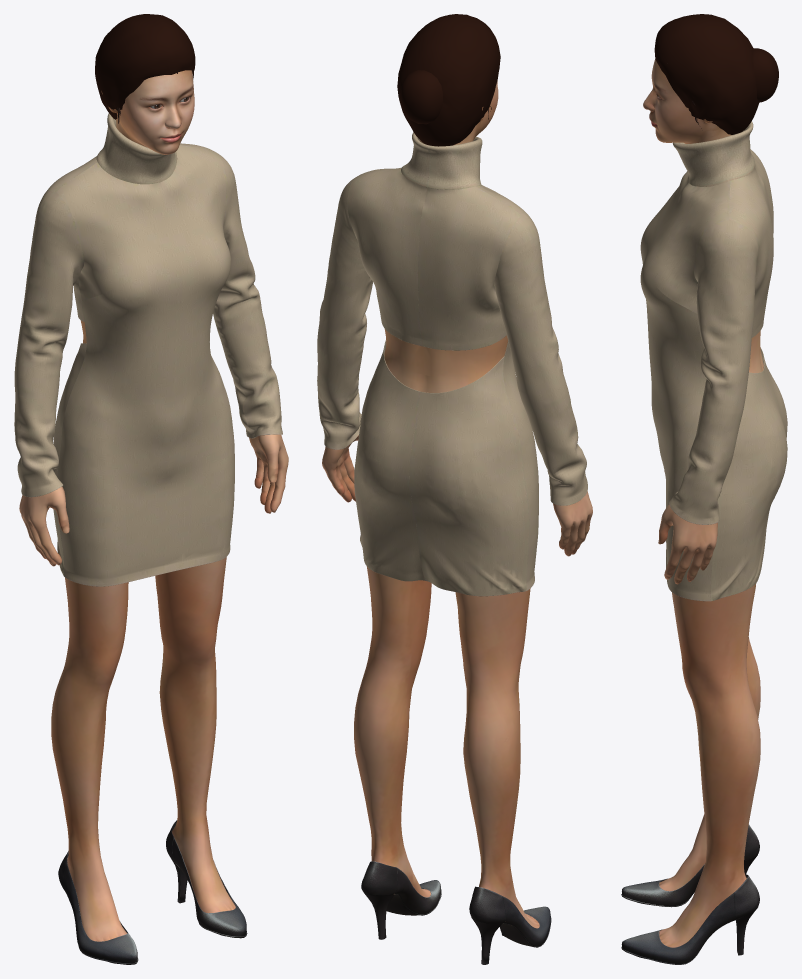
Rendered from woman_1_o.glb.
3 views of the same model, side by side, from view 1: azimuth 30°, elevation 25°; view 2: azimuth 150°, elevation 25°; view 3: azimuth 270°, elevation 25° (orthographic).
Visible parts, largest first — view 1: ClothPiece_0_A_front_0, Sub_0_lambert1_0, Sub_2_female_A6_3:G6:_V02:lambert5_0, Sub_0_lambert12_0, Sub_1__lambert10SG1_0; view 2: ClothPiece_0_A_front_0, Sub_0_lambert1_0, Sub_2_female_A6_3:G6:_V02:lambert5_0, Sub_1__lambert10SG1_0; view 3: ClothPiece_0_A_front_0, Sub_0_lambert1_0, Sub_2_female_A6_3:G6:_V02:lambert5_0, Sub_1__lambert10SG1_0, Sub_0_lambert12_0.
Part boxes in pixels (bbox=[...]): ClothPiece_0_A_front_0: bbox=[14, 113, 282, 586]; Sub_0_lambert1_0: bbox=[19, 320, 288, 941]; Sub_2_female_A6_3:G6:_V02:lambert5_0: bbox=[95, 14, 195, 119]; Sub_0_lambert12_0: bbox=[101, 70, 194, 154]; Sub_1__lambert10SG1_0: bbox=[58, 820, 247, 964]; ClothPiece_0_A_front_0: bbox=[317, 132, 587, 596]; Sub_0_lambert1_0: bbox=[322, 329, 592, 928]; Sub_2_female_A6_3:G6:_V02:lambert5_0: bbox=[397, 14, 500, 146]; Sub_1__lambert10SG1_0: bbox=[361, 861, 551, 964]; ClothPiece_0_A_front_0: bbox=[640, 121, 787, 601]; Sub_0_lambert1_0: bbox=[658, 330, 763, 947]; Sub_2_female_A6_3:G6:_V02:lambert5_0: bbox=[654, 14, 778, 134]; Sub_1__lambert10SG1_0: bbox=[621, 824, 759, 964]; Sub_0_lambert12_0: bbox=[643, 59, 731, 143].
Bounding box in the file's own units: 0.524 × 1.76 × 0.2911.
7 materials, 7 textured.
